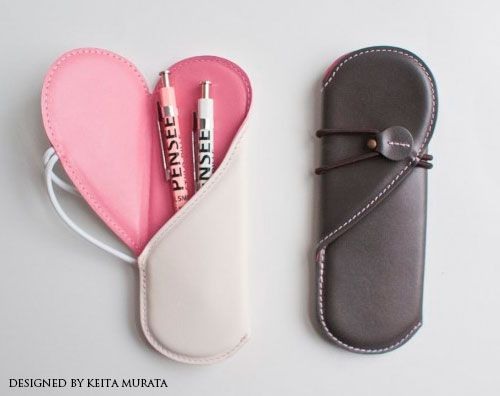cuero: (40, 45, 439, 363)
